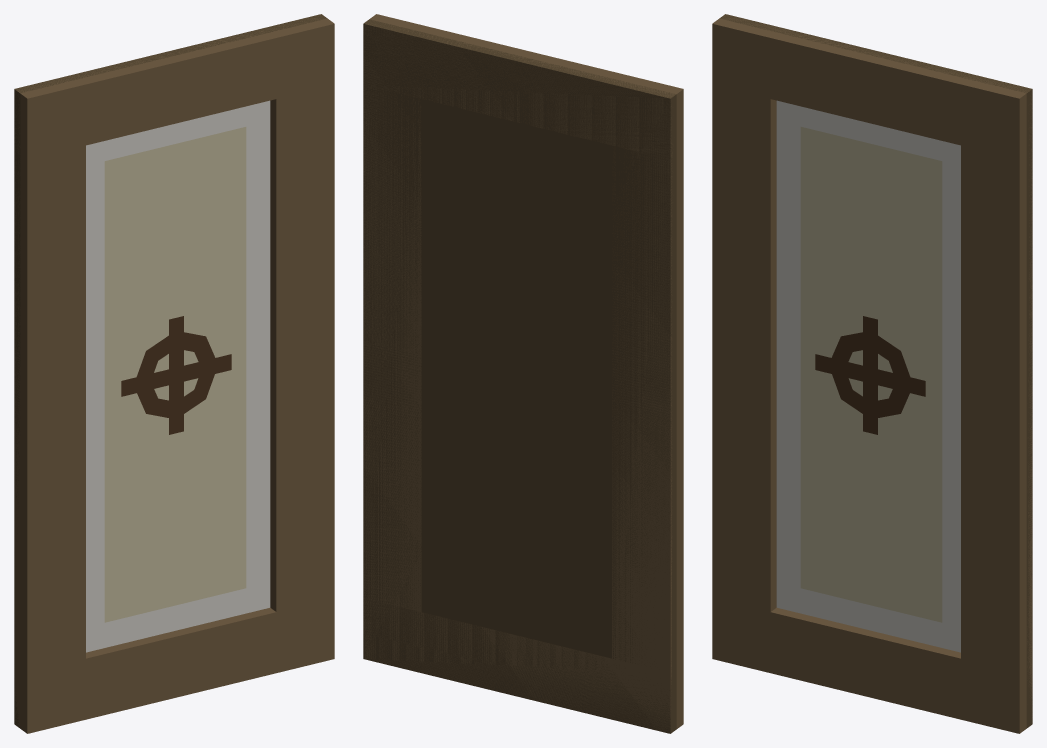
The model's file is picture-frame-49.glb.
3 renders of one model, left to right at view 1: azimuth 30°, elevation 25°; view 2: azimuth 150°, elevation 25°; view 3: azimuth 330°, elevation 25°, orthographic.
Visible parts, largest first — view 1: picture_frame_49; view 2: picture_frame_49; view 3: picture_frame_49.
Boxes of the visible parts, left/top/right/bottom form: picture_frame_49: left=14, top=14, right=334, bottom=733; picture_frame_49: left=363, top=14, right=683, bottom=733; picture_frame_49: left=712, top=14, right=1032, bottom=733.
Bounding box in the file's own units: 0.3473 × 0.6859 × 0.026.
